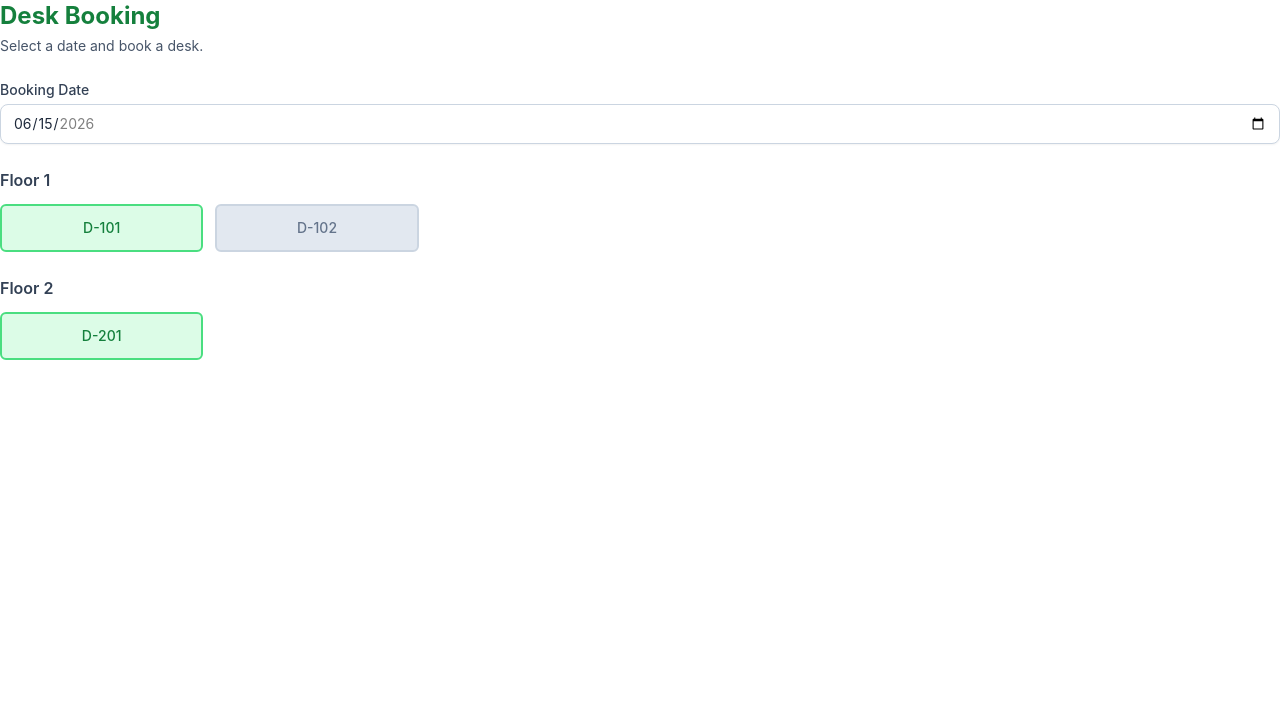
Scenario: DeskBookingPage › shows booking confirmation dialog on available desk click
Click the button "D-101": (102, 228) [0, 204, 203, 252]
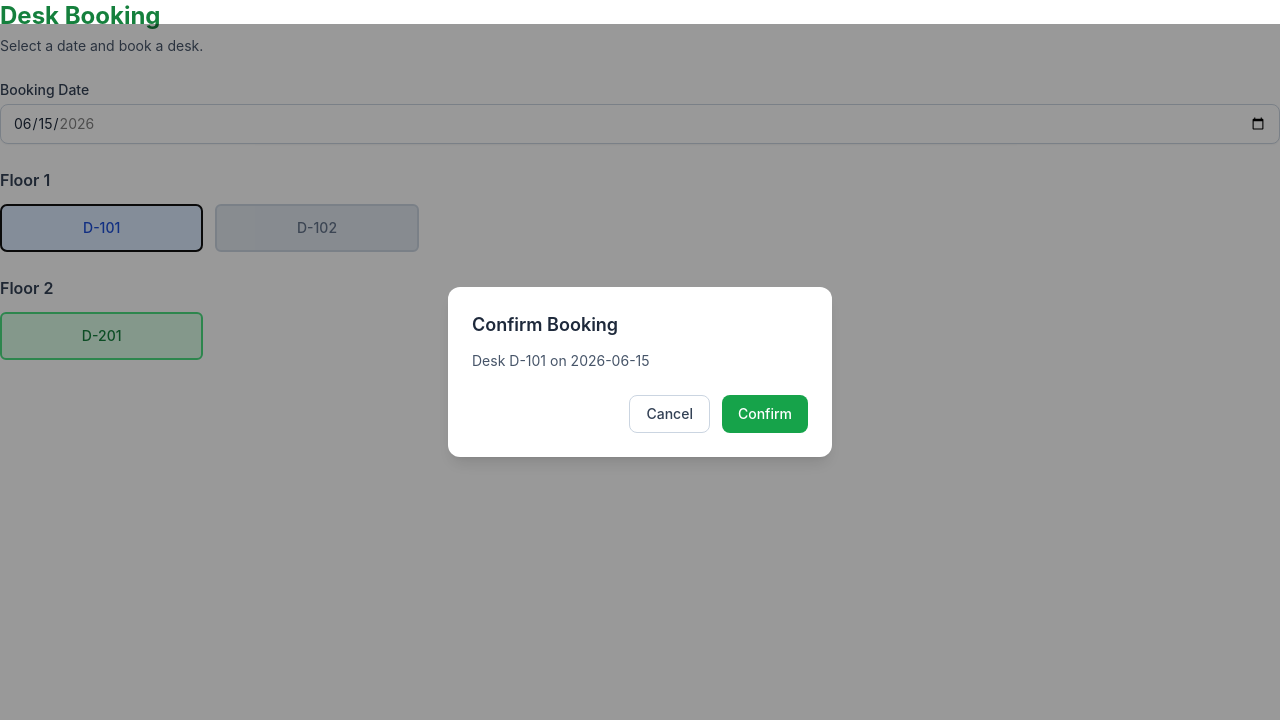
Now the dialog is shown
Now the text "Desk D-101 on 2026-06-15" is shown, box [472, 352, 650, 369]
Now the button "Confirm" is shown, box [722, 395, 808, 433]
